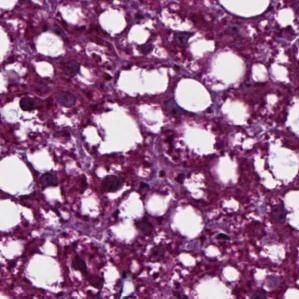steatosis: (174, 80, 214, 113)
